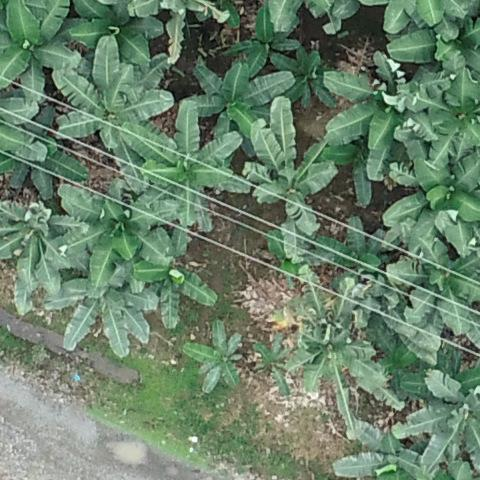Banana-plant: (285, 265, 376, 424), (133, 102, 243, 233), (48, 39, 172, 154), (323, 57, 439, 164), (375, 143, 480, 257), (56, 181, 174, 279), (247, 97, 333, 227), (58, 274, 157, 367), (392, 239, 480, 340), (0, 200, 80, 310), (187, 55, 293, 134), (404, 369, 480, 477), (2, 106, 83, 203), (0, 0, 75, 94), (140, 231, 217, 318), (388, 1, 480, 71), (65, 0, 165, 64), (420, 71, 480, 157), (180, 321, 247, 394), (234, 17, 293, 71), (295, 48, 337, 107), (256, 332, 289, 395)
